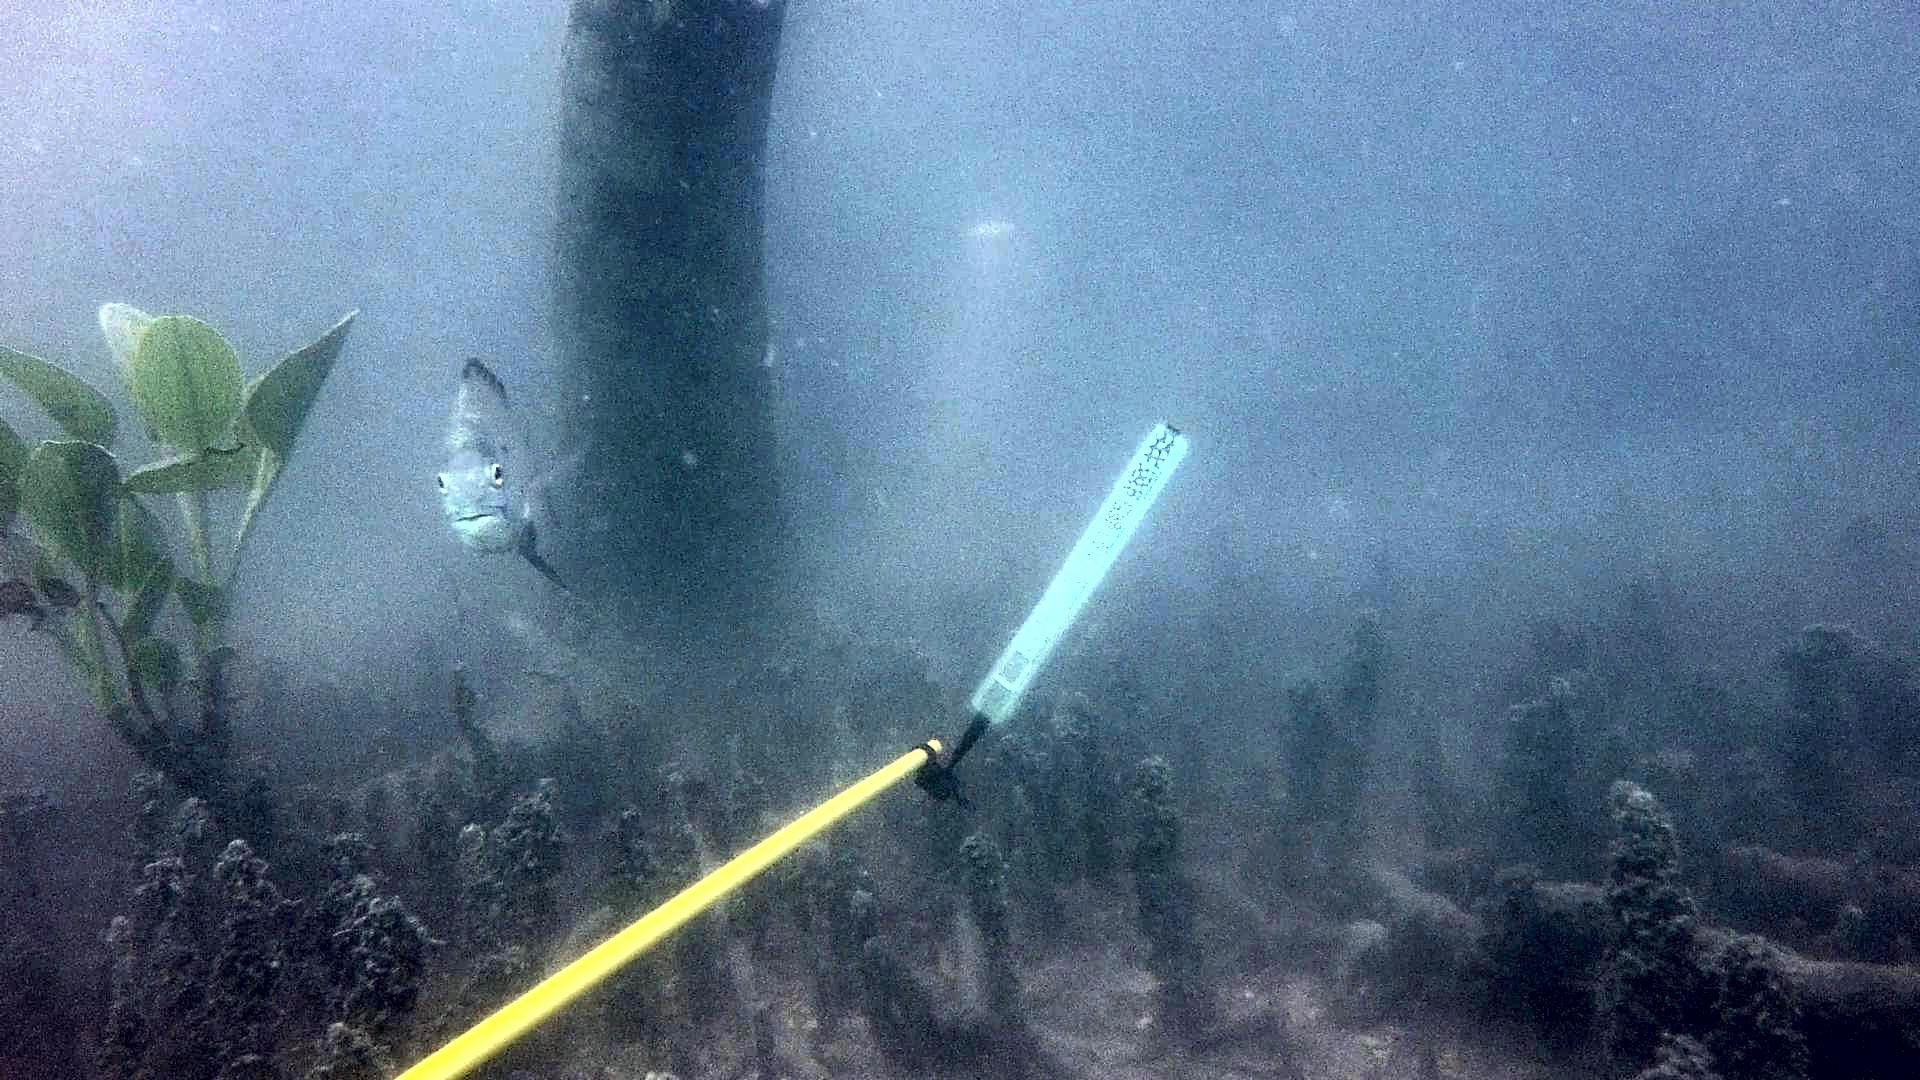acanthopagrus palmaris: (435, 345, 595, 596)
